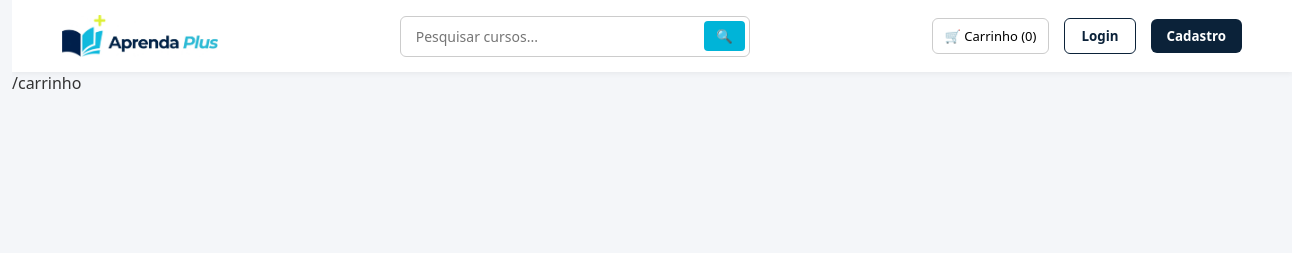
Test: Header: busca com sugestões › clicar numa sugestão preenche a busca e volta pra Home
The width and height of the screenshot is (1292, 253).
Focus the field with placeholder "Pesquisar cursos..." at (575, 36), box [400,16,750,56]
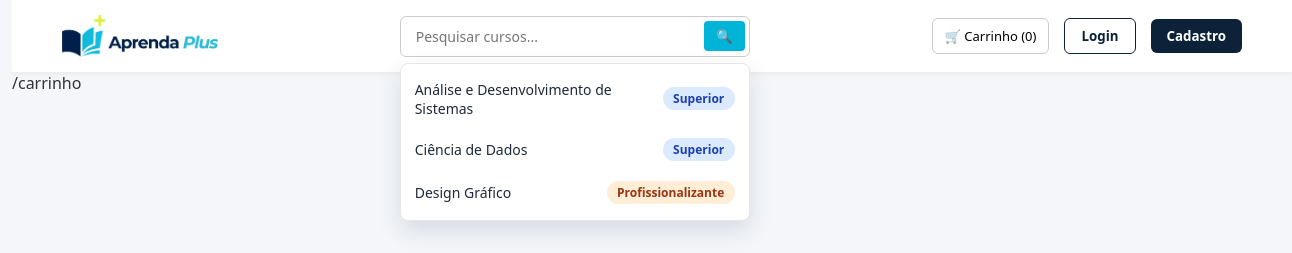
Press the mouse on the text "Design Gráfico" at (463, 193), box [415,183,511,202]
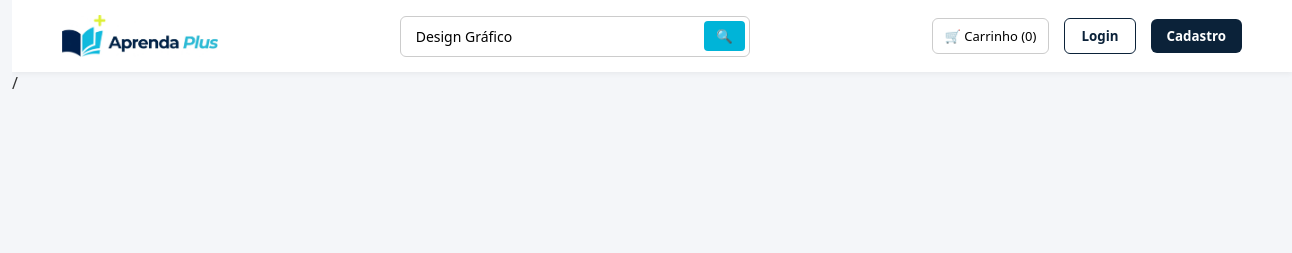
Expected: the text with test id "endereco" reads "/", [12,72,18,94]
Result: the field with placeholder "Pesquisar cursos..." holds "Design Gráfico" at [400,16,750,56]
Result: the list is gone
